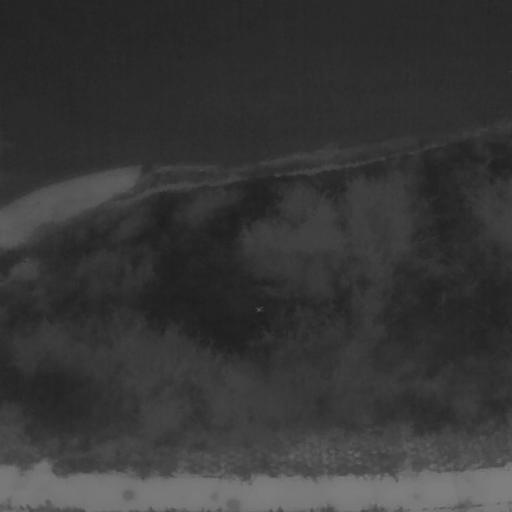uav: (255, 304, 265, 314)
